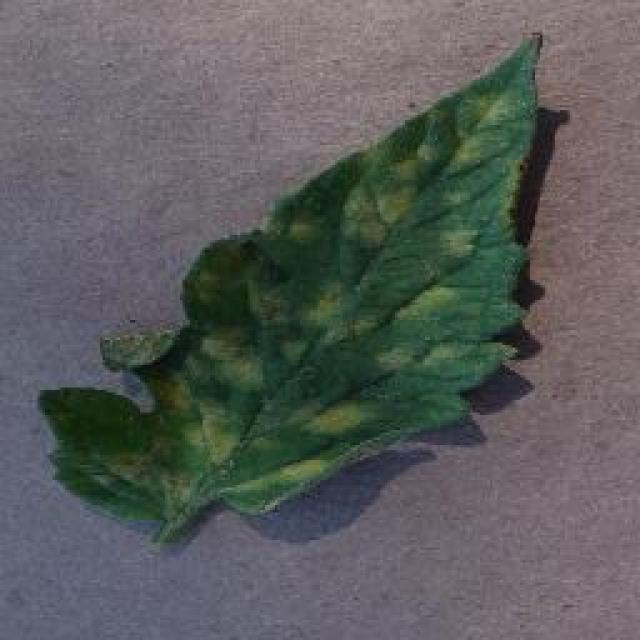Tomato___Leaf_Mold: (40, 35, 538, 540)
